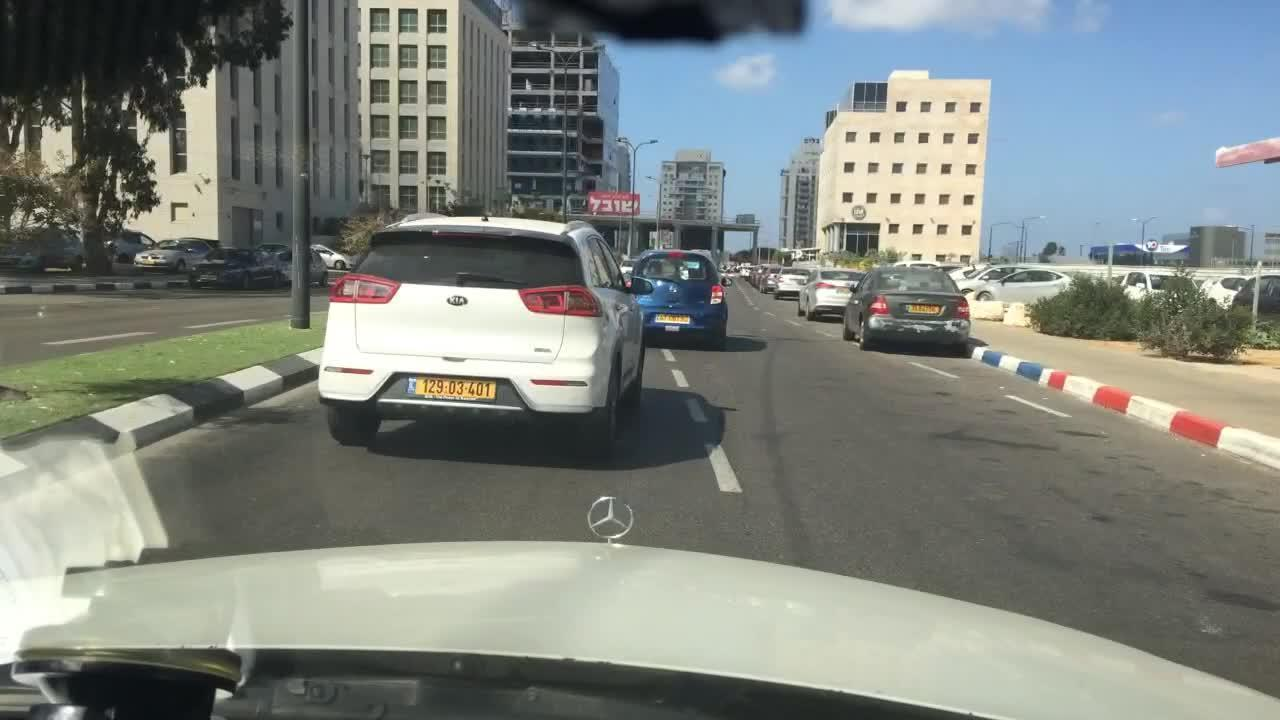kia: (444, 293, 471, 308)
